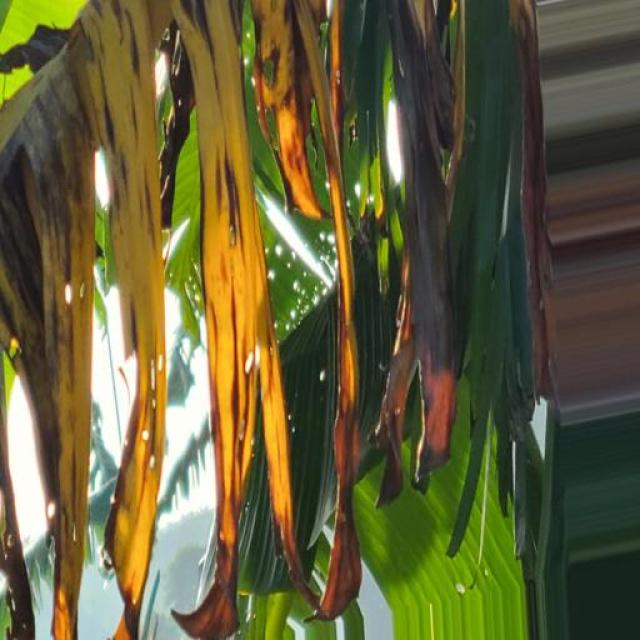Cordana: (0, 3, 472, 640)
